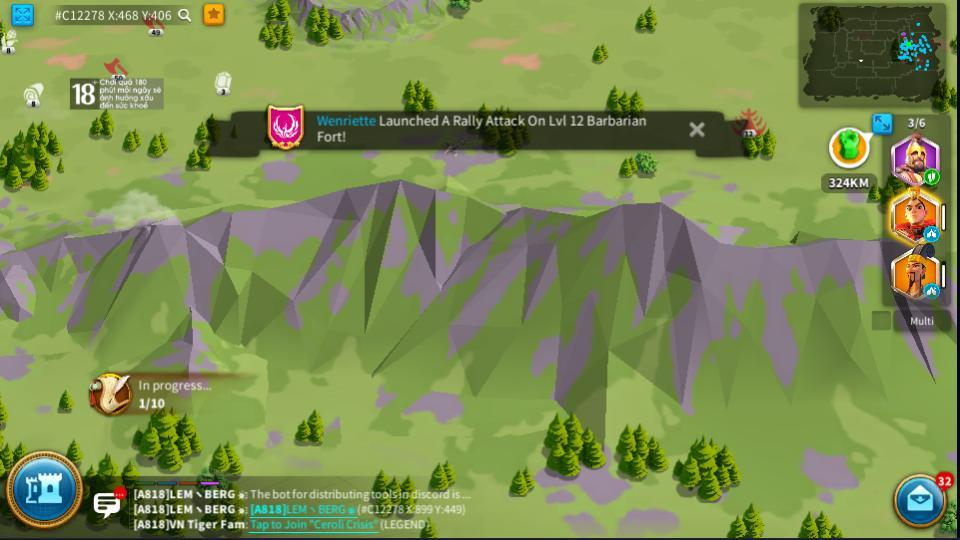gem-z-out: (212, 72, 232, 94)
march_idle: (923, 284, 939, 297), (923, 227, 938, 239)
march_marching: (923, 170, 938, 184)
